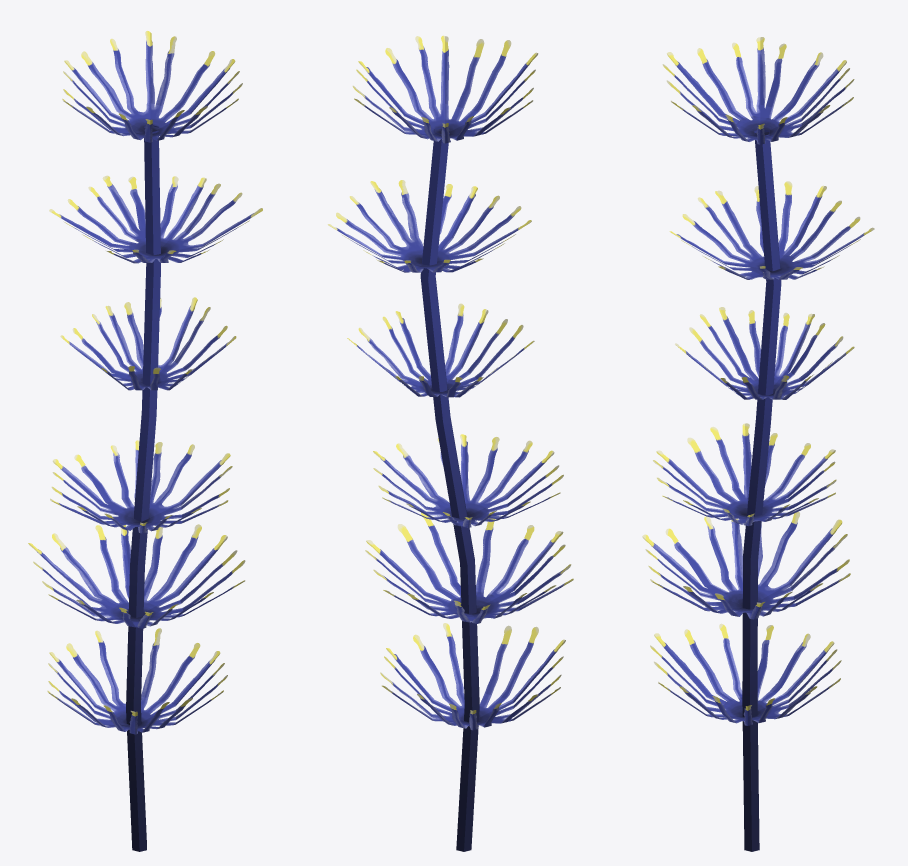
The model's file is FBX_PLANTE_FLEUR1.fbx.
3 renders of one model, left to right at view 1: azimuth 30°, elevation 25°; view 2: azimuth 150°, elevation 25°; view 3: azimuth 270°, elevation 25°, orthographic.
Visible parts, largest first — view 1: PLANTE_FLEUR1; view 2: PLANTE_FLEUR1; view 3: PLANTE_FLEUR1.
Boxes of the visible parts, x1,y1,x2,y2 form: PLANTE_FLEUR1: [28, 31, 262, 851]; PLANTE_FLEUR1: [327, 35, 573, 851]; PLANTE_FLEUR1: [642, 37, 874, 851].
Size of the model in its own units: 11.78 by 36.86 by 11.43.
